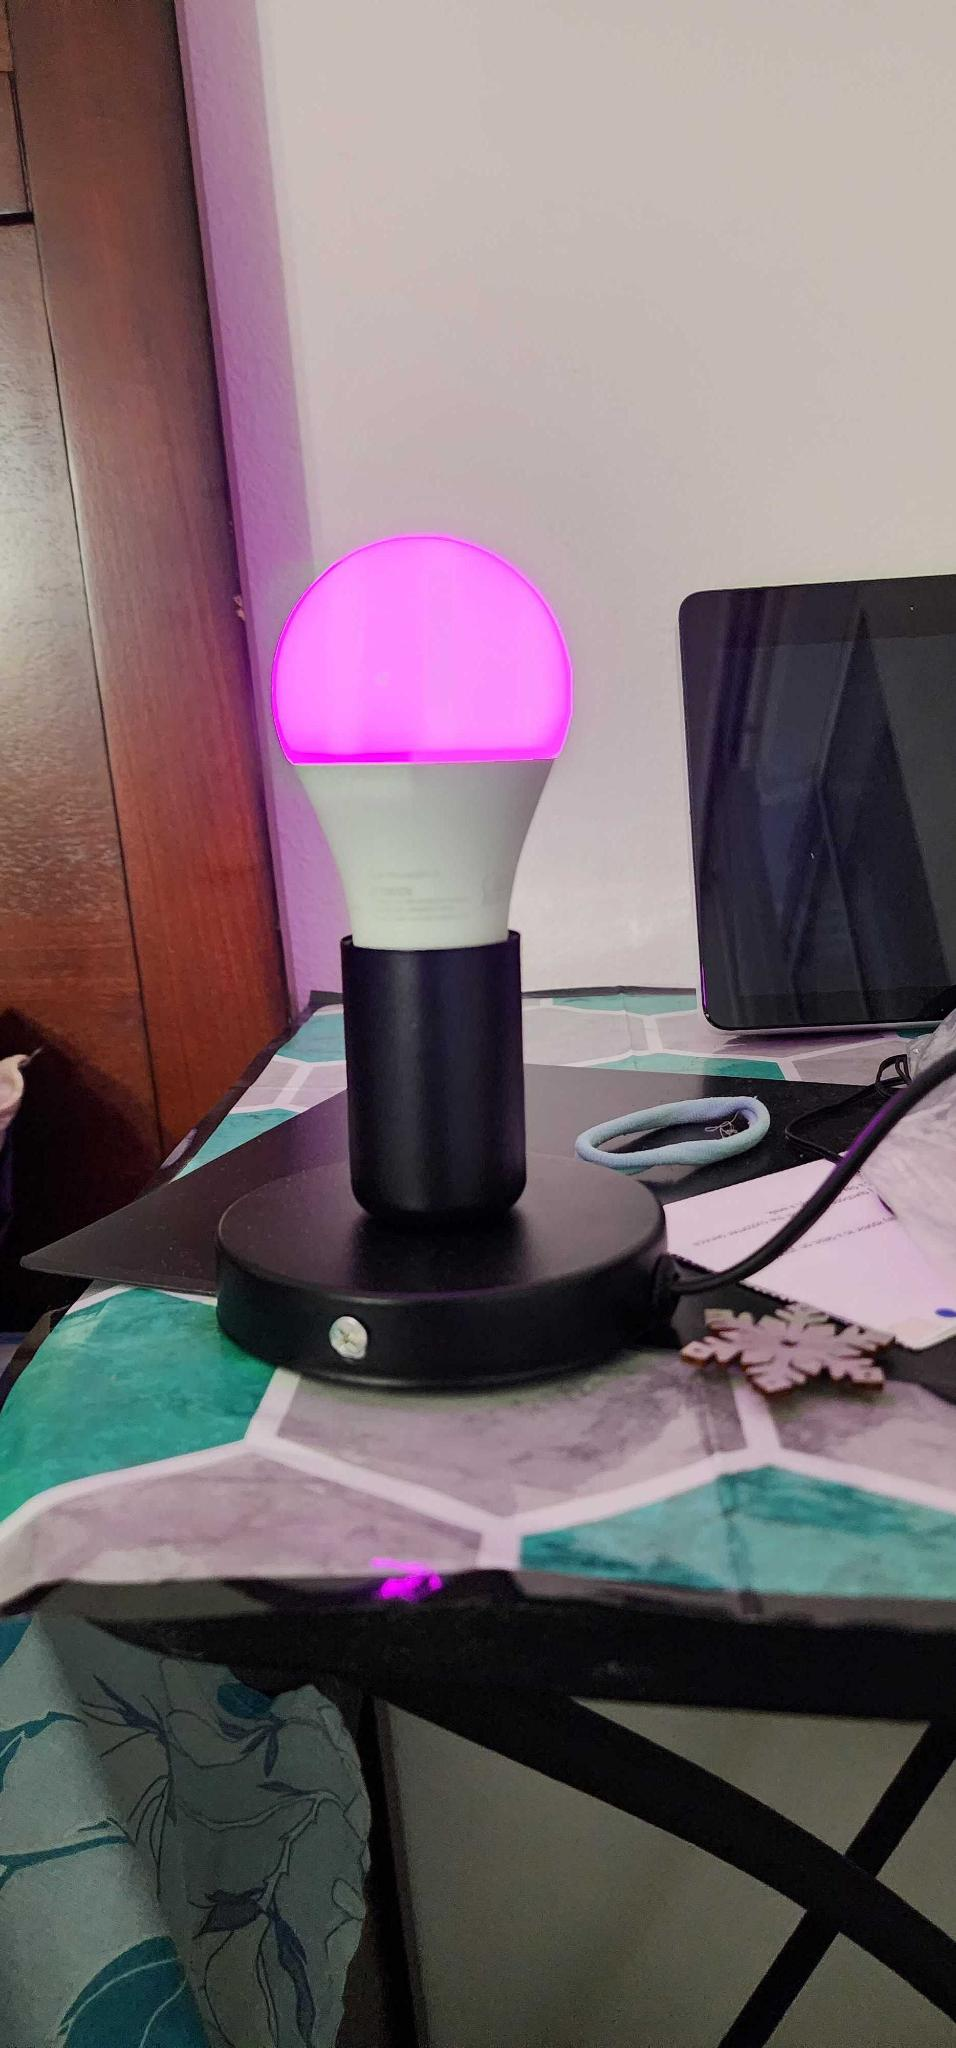TubeLight: (272, 534, 572, 1214)
